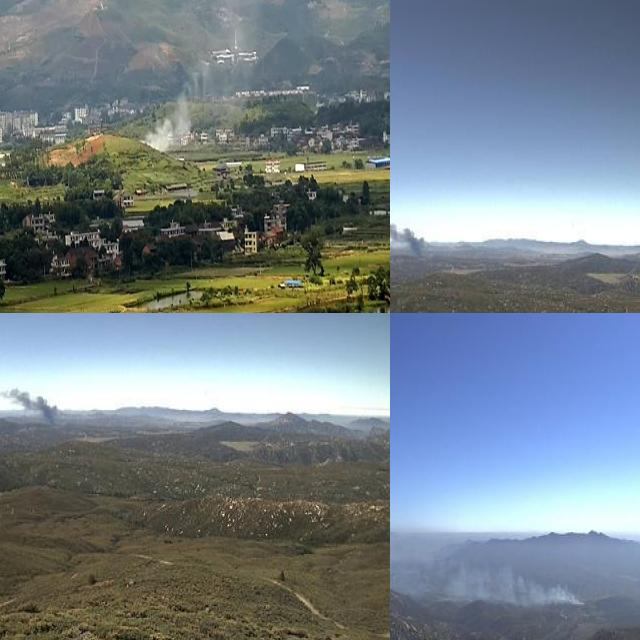smoke: (390, 544, 582, 610), (0, 381, 65, 435), (143, 85, 191, 153), (390, 213, 432, 267)
